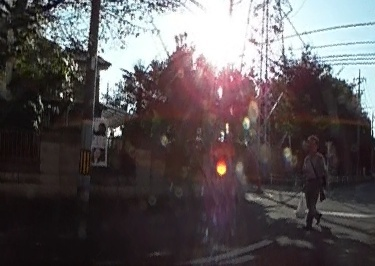person: (298, 135, 327, 228)
